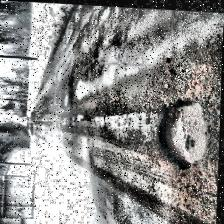pothole: (153, 94, 211, 168)
